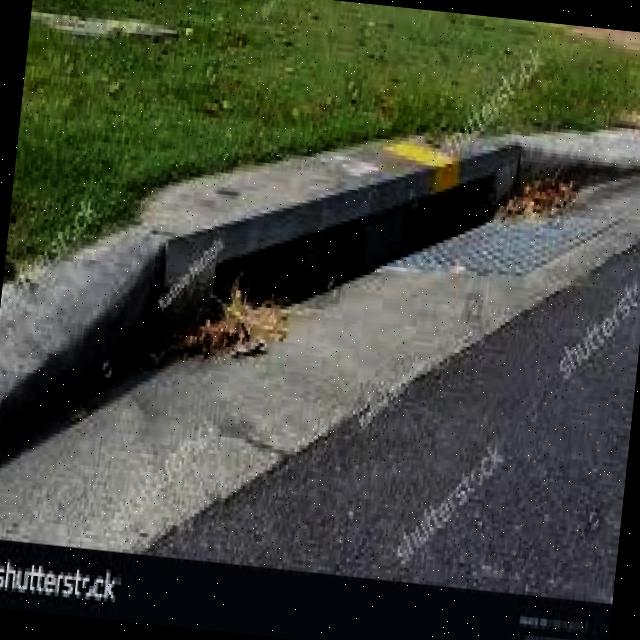curb: (142, 99, 448, 374), (1, 160, 180, 472), (391, 91, 640, 229)
